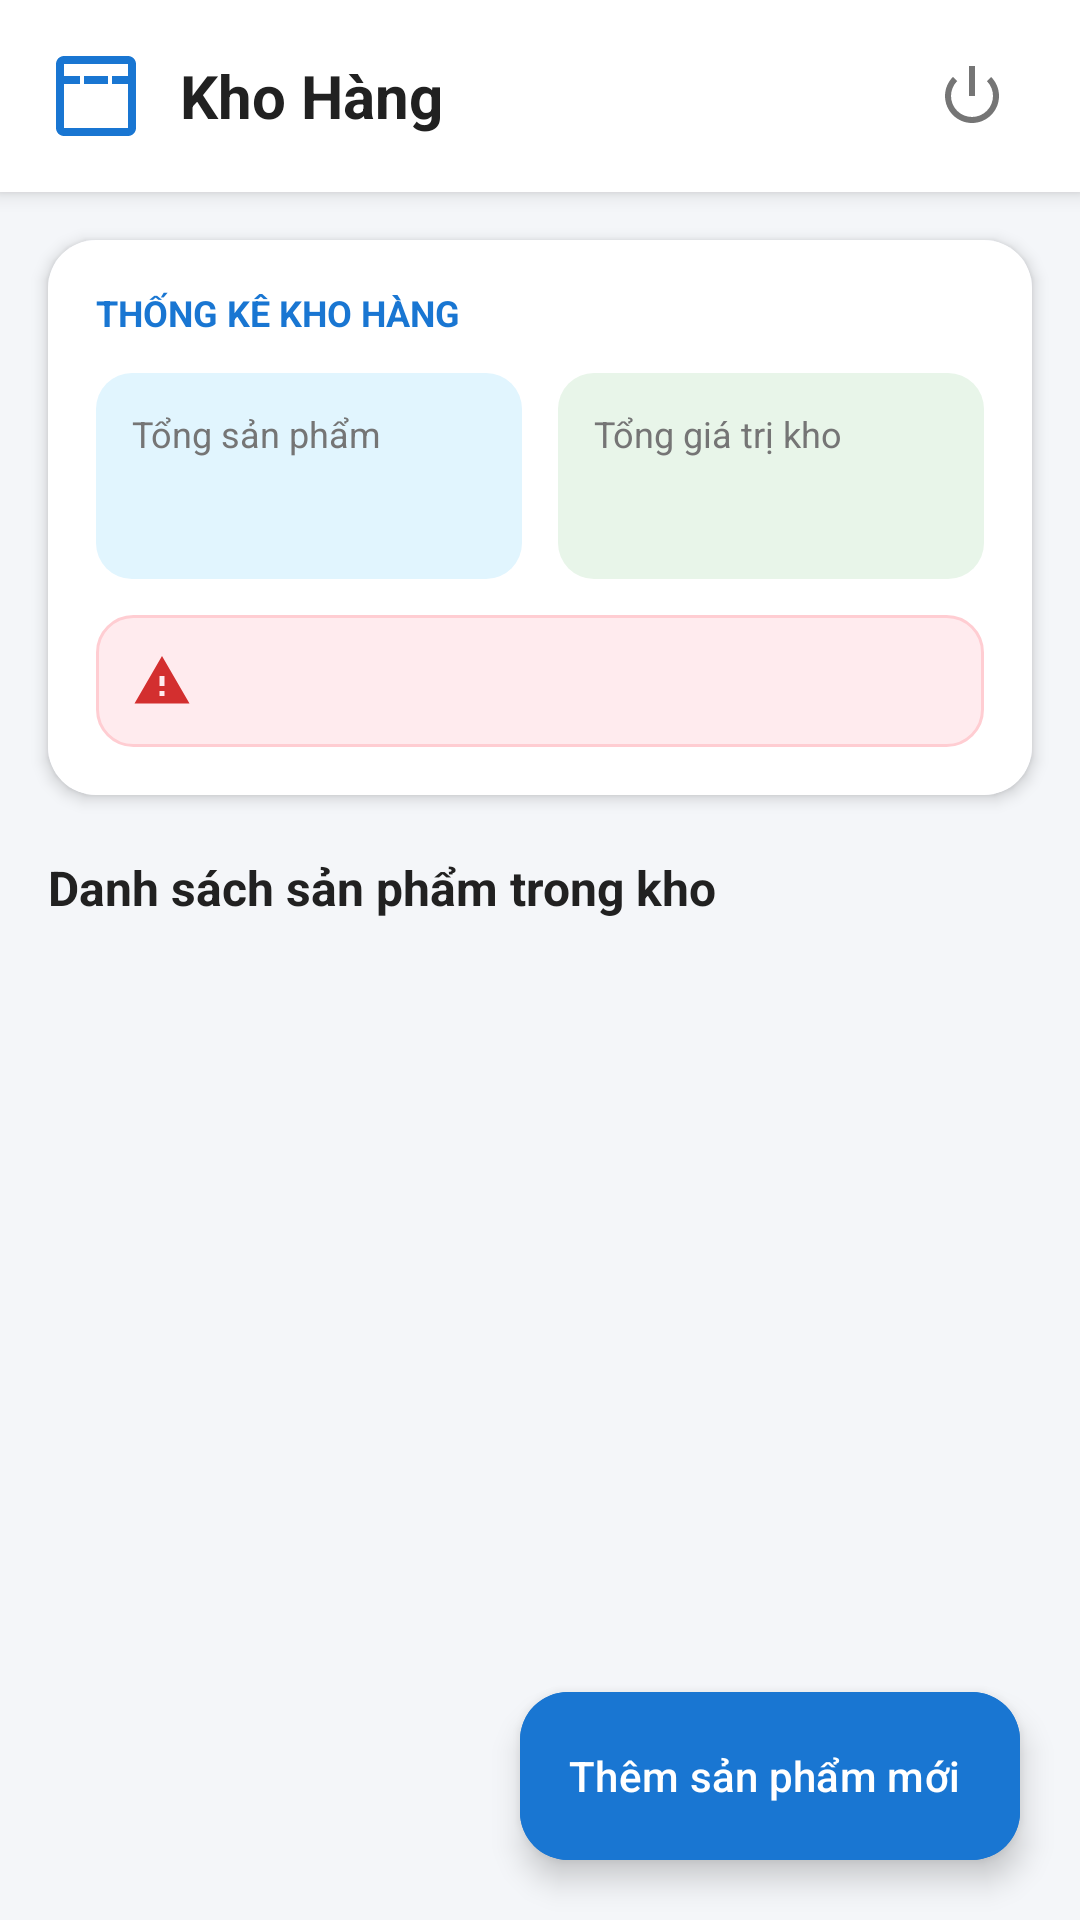

Named icons in this screenshot (1080 x 1920) and their centers, (x=x, y=y):
Warning: (x=162, y=680)
